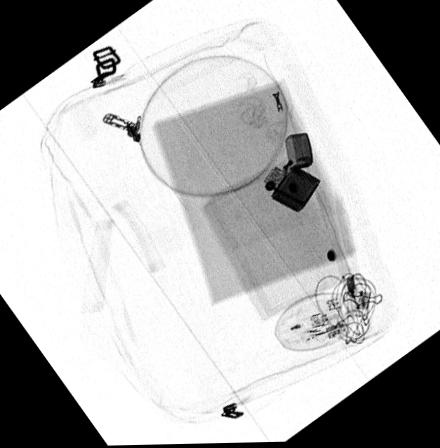Lighter: (261, 133, 321, 215)
